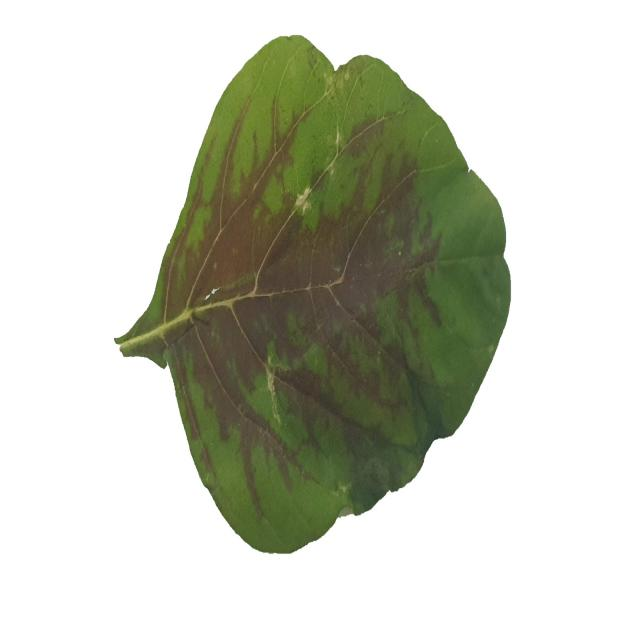Medicinal-Arive Dantu: (112, 36, 512, 554)
